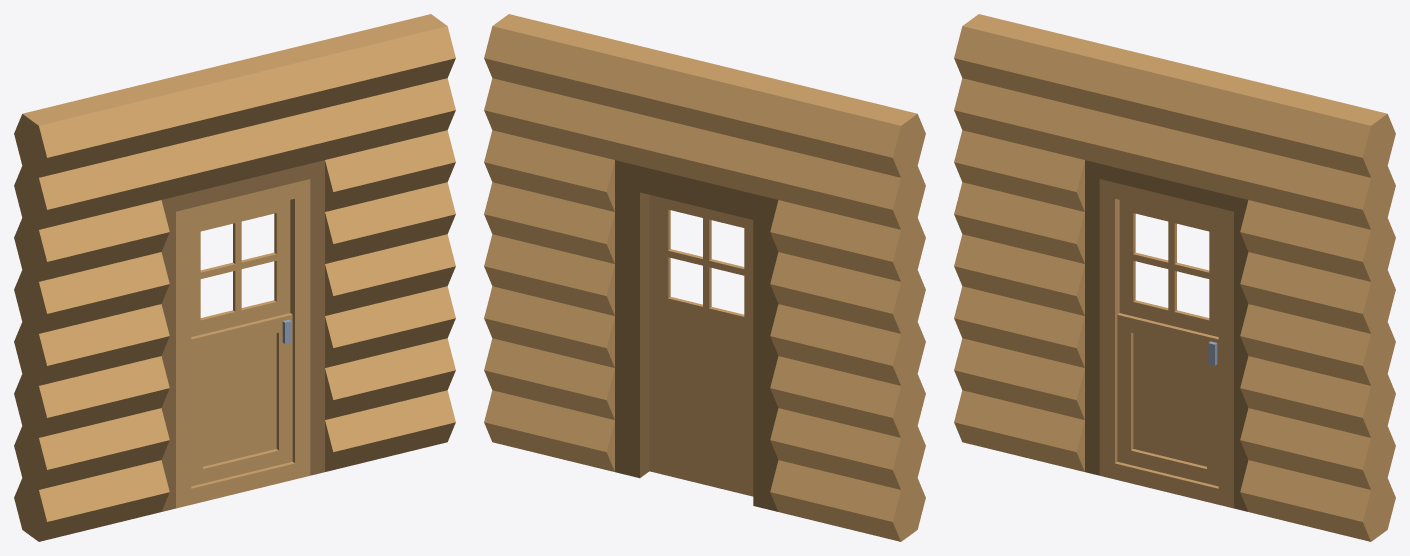
Rendered from cabinDoor.fbx.
3 renders of one model, left to right at view 1: azimuth 30°, elevation 25°; view 2: azimuth 150°, elevation 25°; view 3: azimuth 330°, elevation 25°, orthographic.
Parts seen in each view (by area): view 1: cabinDoor, door, frame; view 2: cabinDoor, door, frame; view 3: cabinDoor, door, frame.
Boxes of the visible parts, <box> form: cabinDoor: <box>14,14,455,541</box>; door: <box>176,179,310,508</box>; frame: <box>161,160,324,511</box>; cabinDoor: <box>484,14,925,541</box>; door: <box>649,194,753,496</box>; frame: <box>615,160,778,511</box>; cabinDoor: <box>954,14,1395,541</box>; door: <box>1099,179,1233,508</box>; frame: <box>1085,160,1248,511</box>.
Size of the model in its own units: 10 by 9.73 by 1.4.
